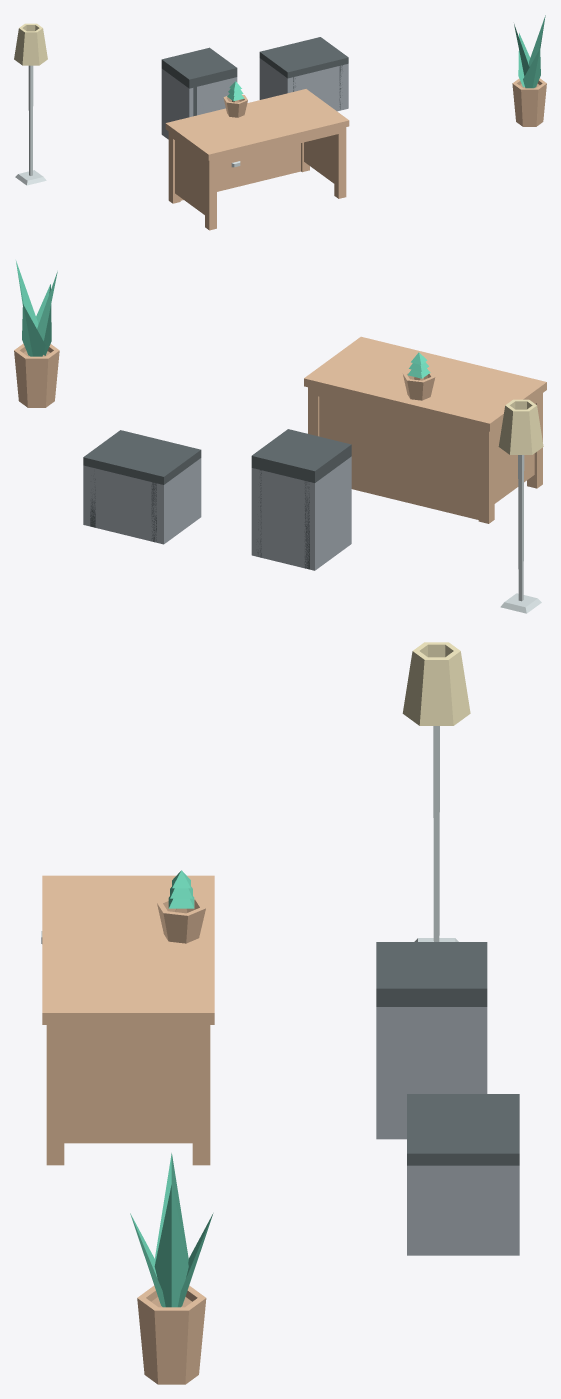
3 views of the same model, one above another, from view 1: azimuth 30°, elevation 25°; view 2: azimuth 150°, elevation 25°; view 3: azimuth 270°, elevation 25° (orthographic). The views are drawn at different scales.
Visible parts, largest first — view 1: desk_blue__desk(Clone), crate_red__crate_red shell, bin_gray__bin_gray shell, crate_red__crate_red lid, lamp_white__lampRoundFloor(Clone), bin_gray__bin_gray lid, plant_pink__pottedPlant(Clone), plant_pink__plant, flowerpot_green__plantSmall1(Clone), desk_blue__drawer; view 2: desk_blue__desk(Clone), bin_gray__bin_gray shell, crate_red__crate_red shell, crate_red__crate_red lid, bin_gray__bin_gray lid, lamp_white__lampRoundFloor(Clone), plant_pink__pottedPlant(Clone), plant_pink__plant, flowerpot_green__plantSmall1(Clone), bin_gray__bin_gray band, crate_red__crate_red band; view 3: desk_blue__desk(Clone), bin_gray__bin_gray shell, crate_red__crate_red shell, crate_red__crate_red lid, bin_gray__bin_gray lid, lamp_white__lampRoundFloor(Clone), plant_pink__pottedPlant(Clone), plant_pink__plant, flowerpot_green__plantSmall1(Clone).
Boxes of the visible parts, x1,y1,x2,y2 form: desk_blue__desk(Clone): (165, 89, 349, 230); crate_red__crate_red shell: (259, 58, 348, 111); bin_gray__bin_gray shell: (161, 69, 237, 139); crate_red__crate_red lid: (259, 37, 348, 78); lamp_white__lampRoundFloor(Clone): (14, 23, 47, 185); bin_gray__bin_gray lid: (161, 47, 237, 88); plant_pink__pottedPlant(Clone): (512, 78, 546, 126); plant_pink__plant: (514, 15, 545, 88); flowerpot_green__plantSmall1(Clone): (223, 81, 247, 117); desk_blue__drawer: (217, 154, 254, 173); desk_blue__desk(Clone): (304, 336, 546, 523); bin_gray__bin_gray shell: (251, 456, 351, 570); crate_red__crate_red shell: (83, 458, 201, 544); crate_red__crate_red lid: (83, 430, 201, 484); bin_gray__bin_gray lid: (251, 429, 351, 482); lamp_white__lampRoundFloor(Clone): (498, 399, 543, 613); plant_pink__pottedPlant(Clone): (14, 343, 59, 407); plant_pink__plant: (16, 261, 57, 356); flowerpot_green__plantSmall1(Clone): (403, 352, 435, 400); bin_gray__bin_gray band: (304, 448, 338, 569); crate_red__crate_red band: (151, 447, 193, 542); desk_blue__desk(Clone): (42, 875, 214, 1165); bin_gray__bin_gray shell: (376, 1007, 487, 1139); crate_red__crate_red shell: (407, 1165, 519, 1255); crate_red__crate_red lid: (407, 1094, 519, 1165); bin_gray__bin_gray lid: (376, 942, 487, 1006); lamp_white__lampRoundFloor(Clone): (402, 642, 470, 941); plant_pink__pottedPlant(Clone): (137, 1285, 206, 1384); plant_pink__plant: (130, 1153, 213, 1307); flowerpot_green__plantSmall1(Clone): (157, 870, 205, 943).
Bounding box in the file's own units: 4.38 × 1.37 × 1.97.
